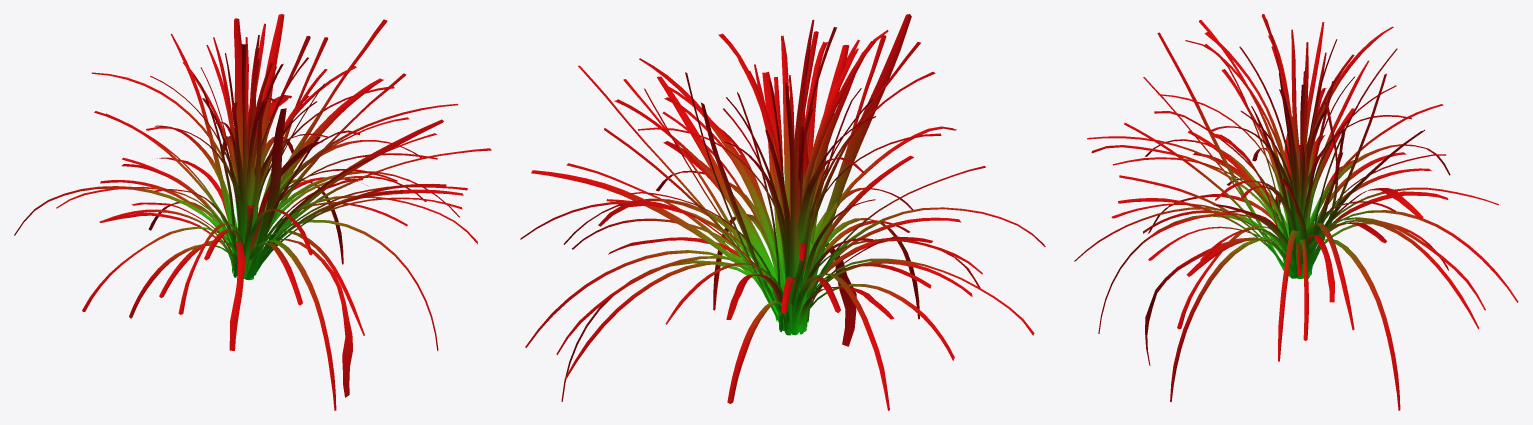
Rendered from White Windflower_LOD0_Var5_sktlN.fbx.
The picture shows the model from 3 angles, left to right: view 1: azimuth 30°, elevation 25°; view 2: azimuth 150°, elevation 25°; view 3: azimuth 270°, elevation 25°; orthographic projection. The views are drawn at different scales.
Parts seen in each view (by area): view 1: _08e1_Var5_LOD0; view 2: _08e1_Var5_LOD0; view 3: _08e1_Var5_LOD0.
Boxes of the visible parts, x1,y1,x2,y2 form: _08e1_Var5_LOD0: (14, 14, 491, 410); _08e1_Var5_LOD0: (520, 14, 1045, 410); _08e1_Var5_LOD0: (1074, 14, 1518, 410).
Size of the model in its own units: 77.43 by 62.26 by 75.51.
